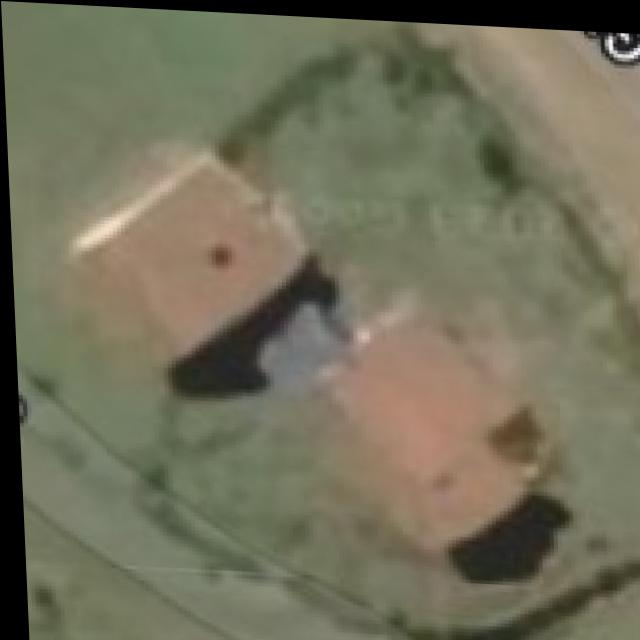Batiment: (318, 314, 524, 547), (78, 155, 303, 358)
